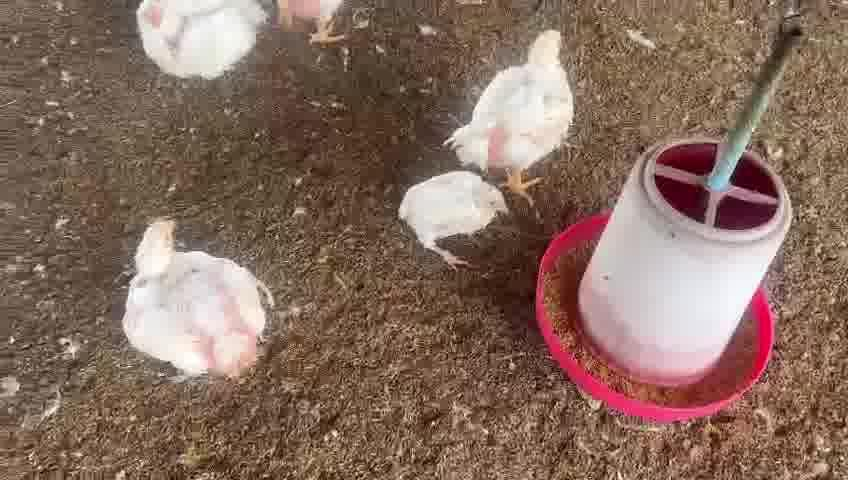AbNormal: (122, 219, 271, 375), (396, 173, 509, 271), (134, 4, 261, 78)
Normal: (463, 30, 572, 194)
